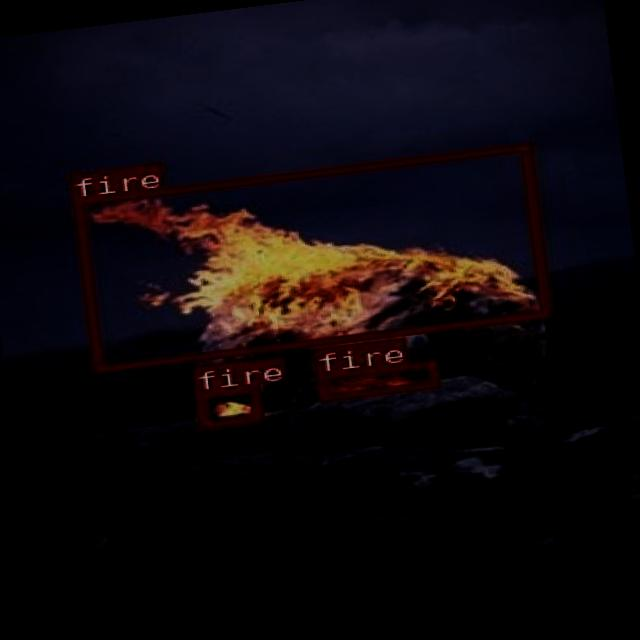fire: (69, 142, 548, 372), (314, 358, 438, 400), (192, 382, 261, 428)
